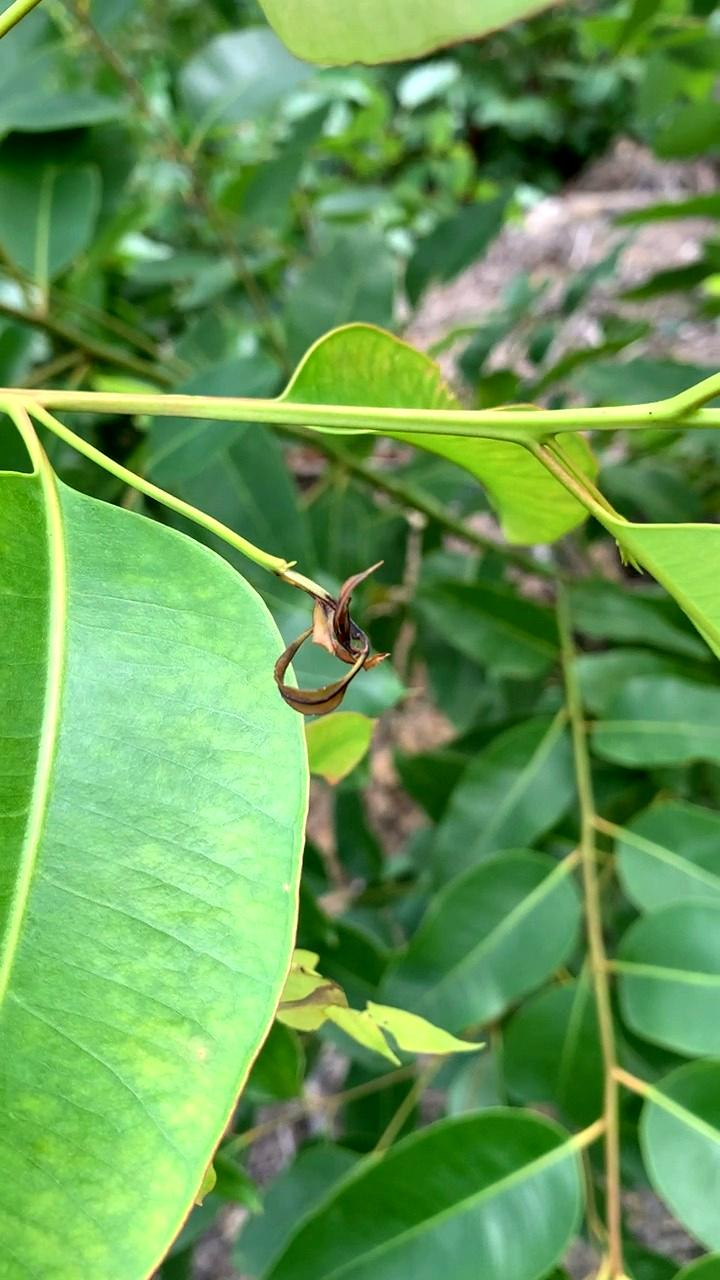Helopeltis-Withered Sprout: (255, 563, 413, 707)
